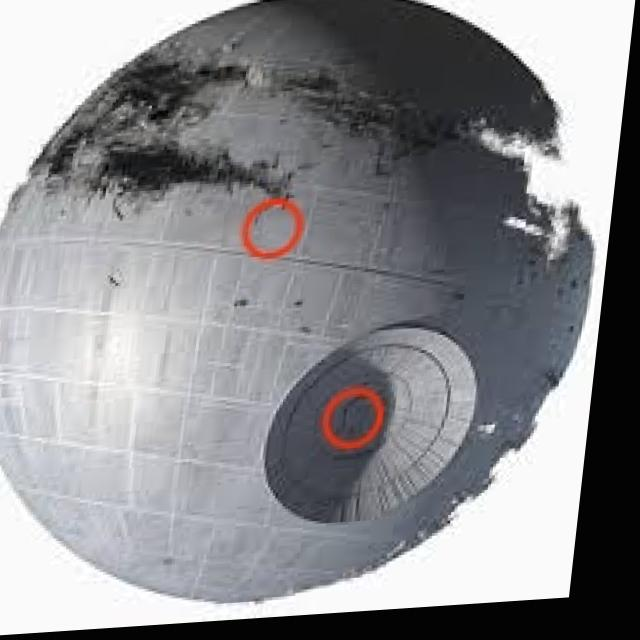deathStar: (0, 0, 624, 617)
